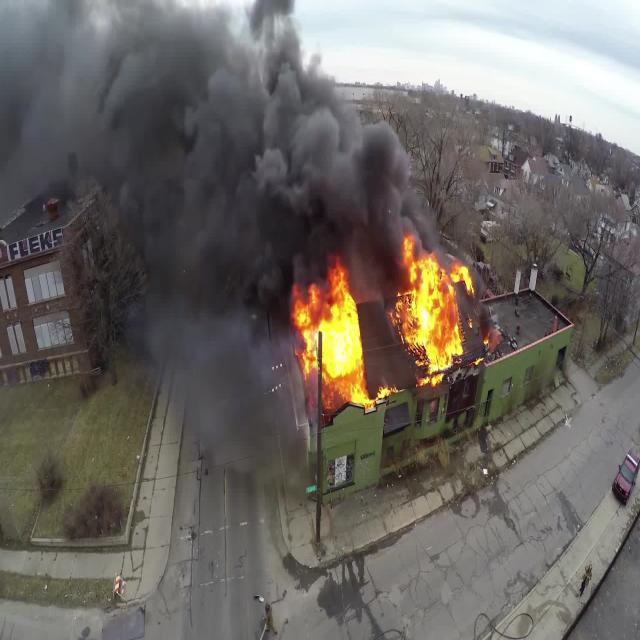Fire: (290, 254, 364, 446), (392, 235, 474, 388)
Smoke: (0, 0, 479, 363)
